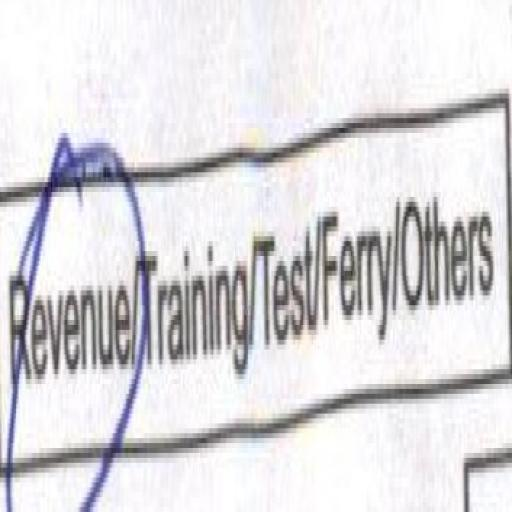check: (0, 118, 139, 507)
